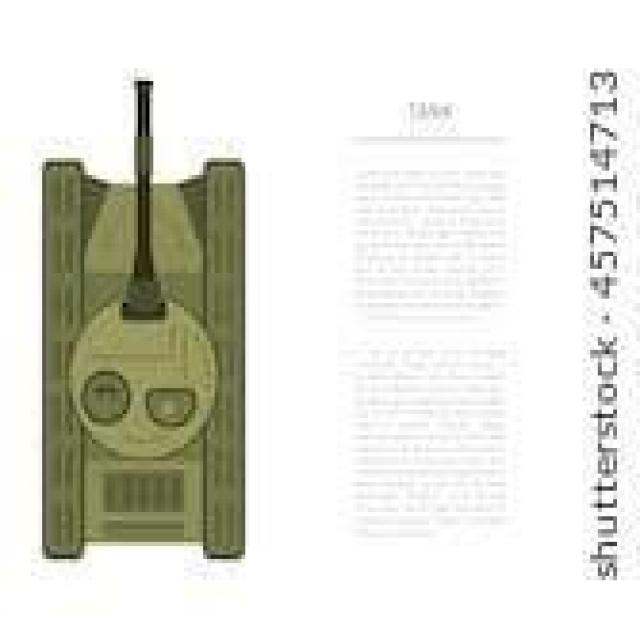Tanks: (34, 102, 257, 576)
